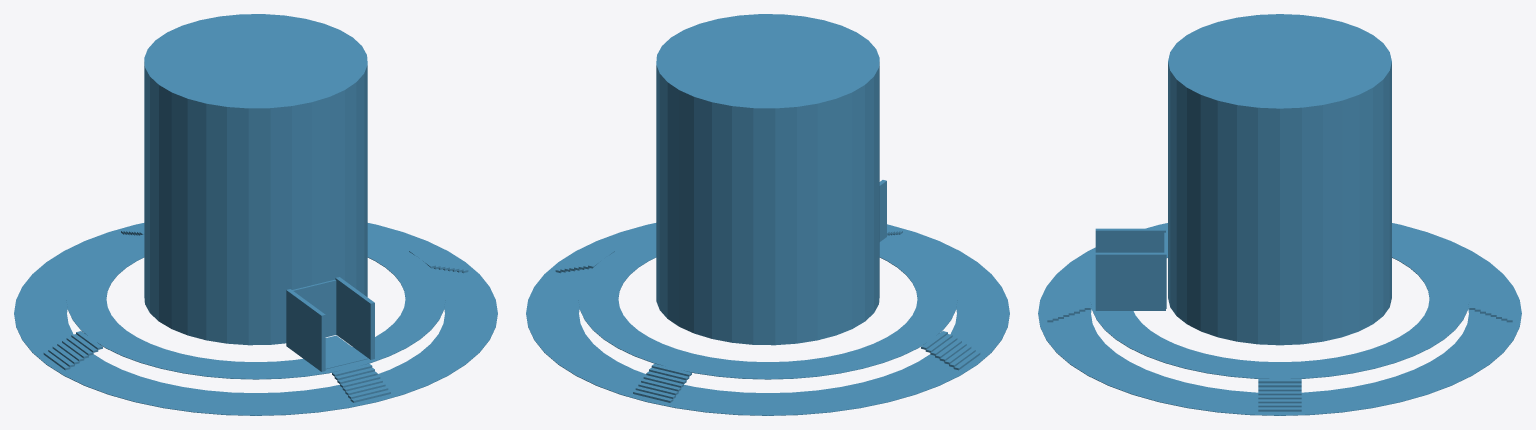
The model's file is HNP_Chedi_M05_Collision_v002.fbx.
The picture shows the model from 3 angles, left to right: view 1: azimuth 30°, elevation 25°; view 2: azimuth 150°, elevation 25°; view 3: azimuth 270°, elevation 25°; orthographic projection.
Parts seen in each view (by area): view 1: COLL_HNP_Chedi_v002_M05__HNP_Chedi_Collision; view 2: COLL_HNP_Chedi_v002_M05__HNP_Chedi_Collision; view 3: COLL_HNP_Chedi_v002_M05__HNP_Chedi_Collision.
Boxes of the visible parts, x1,y1,x2,y2 form: COLL_HNP_Chedi_v002_M05__HNP_Chedi_Collision: (14,14,497,415); COLL_HNP_Chedi_v002_M05__HNP_Chedi_Collision: (526,14,1009,415); COLL_HNP_Chedi_v002_M05__HNP_Chedi_Collision: (1038,14,1521,415).
Bounding box in the file's own units: 74.1 × 42.66 × 74.1.
